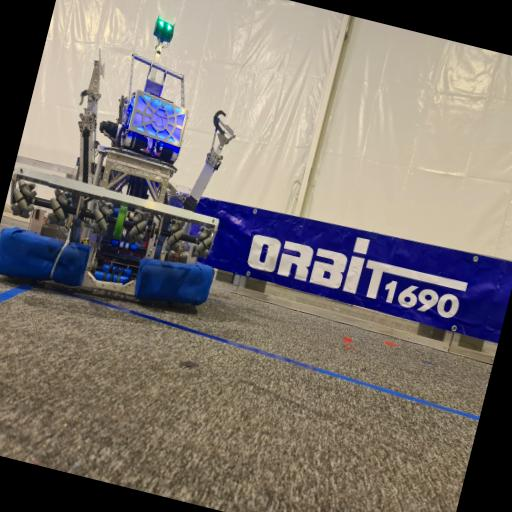robot: (0, 0, 274, 322)
